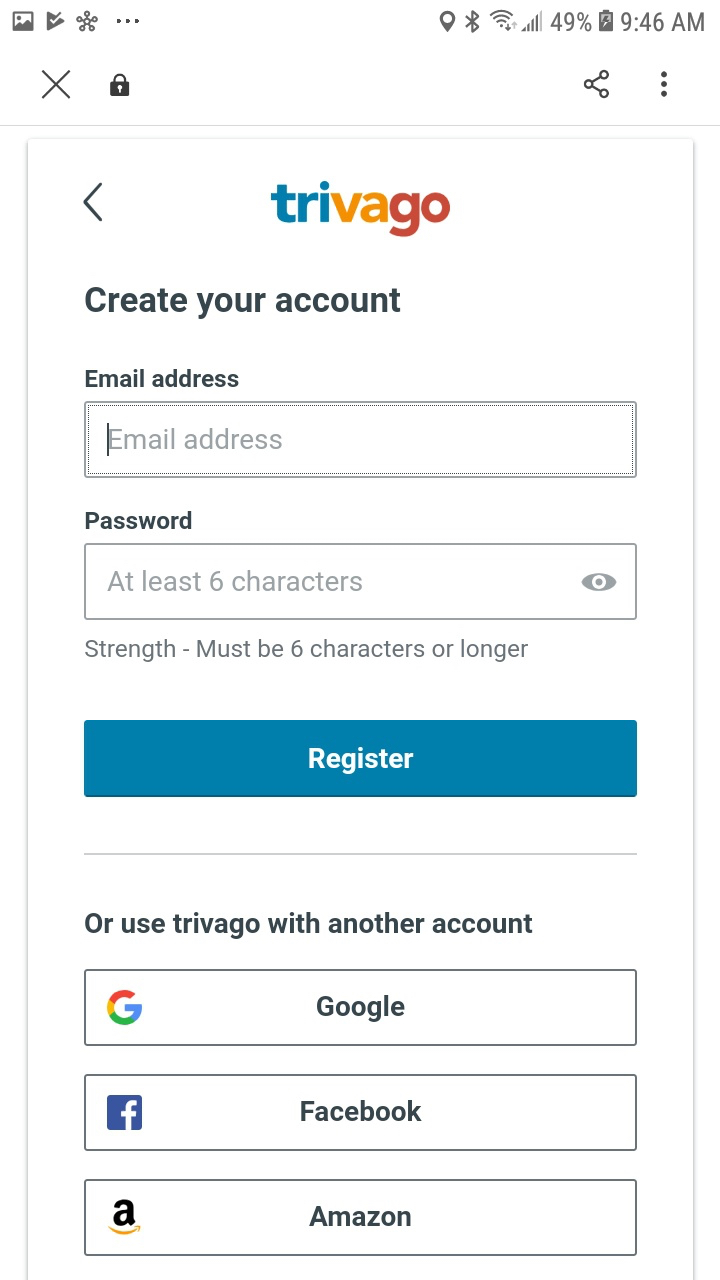EditText: (84, 401, 637, 479), (85, 543, 638, 621)
Icon: (42, 71, 72, 101), (83, 183, 104, 223), (584, 70, 610, 100), (580, 573, 617, 592), (110, 73, 131, 97), (661, 70, 668, 98)
Image: (271, 181, 451, 238)
Text: (85, 911, 533, 940), (85, 638, 529, 663), (85, 286, 401, 320), (108, 570, 363, 592), (110, 428, 283, 450), (86, 368, 240, 388), (86, 510, 193, 530)
TextButton: (84, 720, 638, 798), (85, 1179, 638, 1257), (85, 1074, 638, 1152), (85, 969, 638, 1047)
UpperTaskBar: (1, 1, 720, 35)
